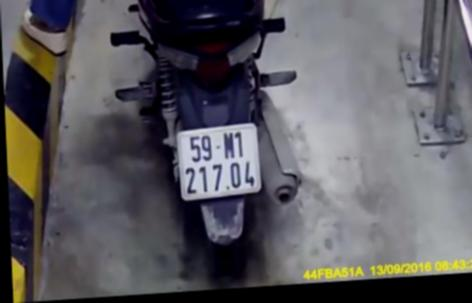License_Plate: (172, 122, 267, 204)
